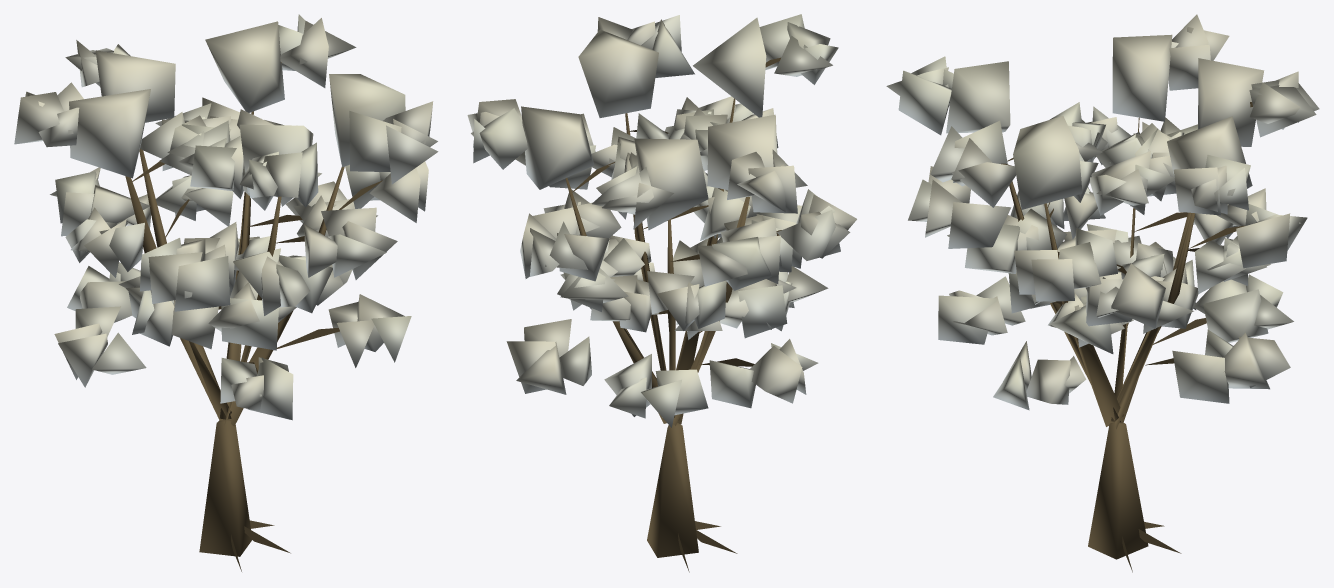
3 views of the same model, side by side, from view 1: azimuth 30°, elevation 25°; view 2: azimuth 150°, elevation 25°; view 3: azimuth 270°, elevation 25° (orthographic). The views are drawn at different scales.
Parts seen in each view (by area): view 1: crown, trunk; view 2: crown, trunk; view 3: crown, trunk.
Part boxes in pixels (x1,y1,x2,y2): crown: (14,14,438,420); trunk: (125,62,382,571); crown: (467,14,856,427); trunk: (565,57,781,572); crown: (886,14,1319,410); trunk: (1001,102,1252,572).
Size of the model in its own units: 10.37 by 13.83 by 11.42.
